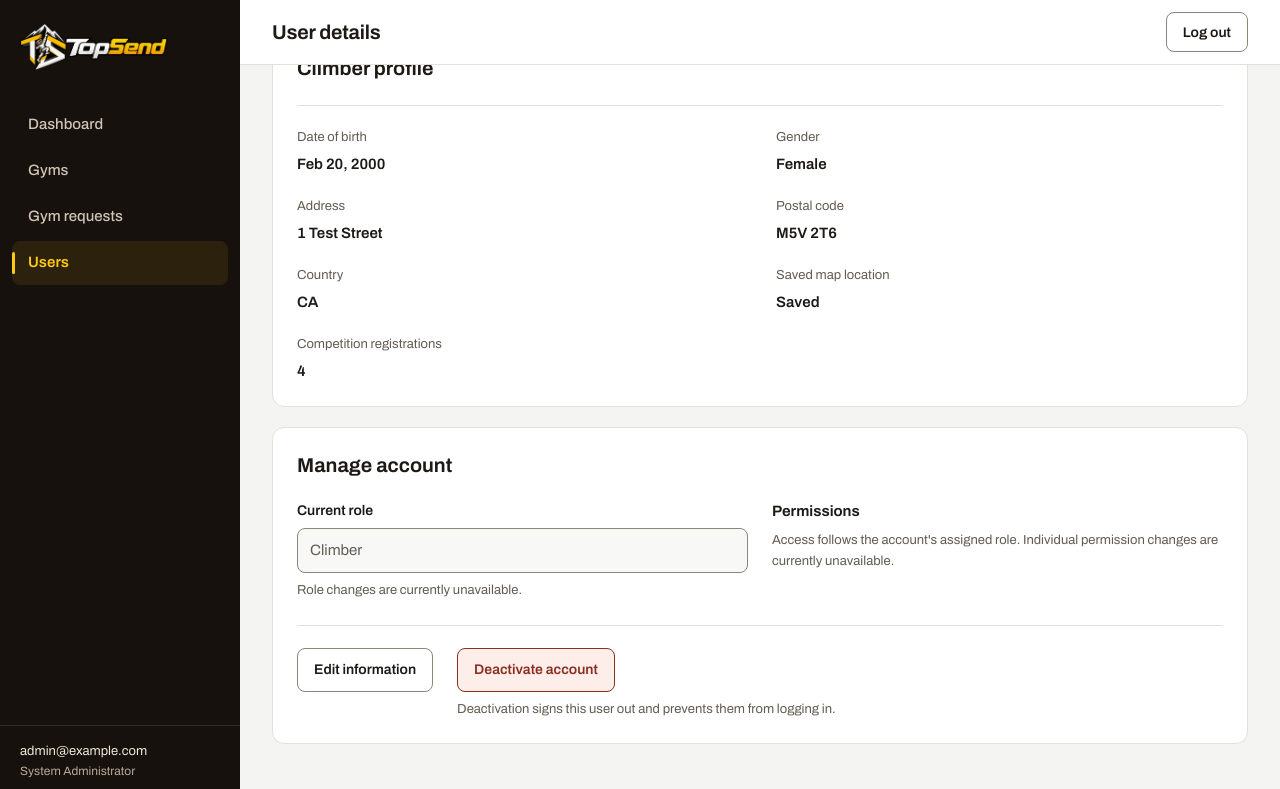
Test: US-009 selected profile editing and status controls › sends a profile field and explicit saved-pin removal without registration or role fields
(page scrolled)
Click the button "Edit information" at [365, 670], box [297,648,433,692]
(page scrolled)
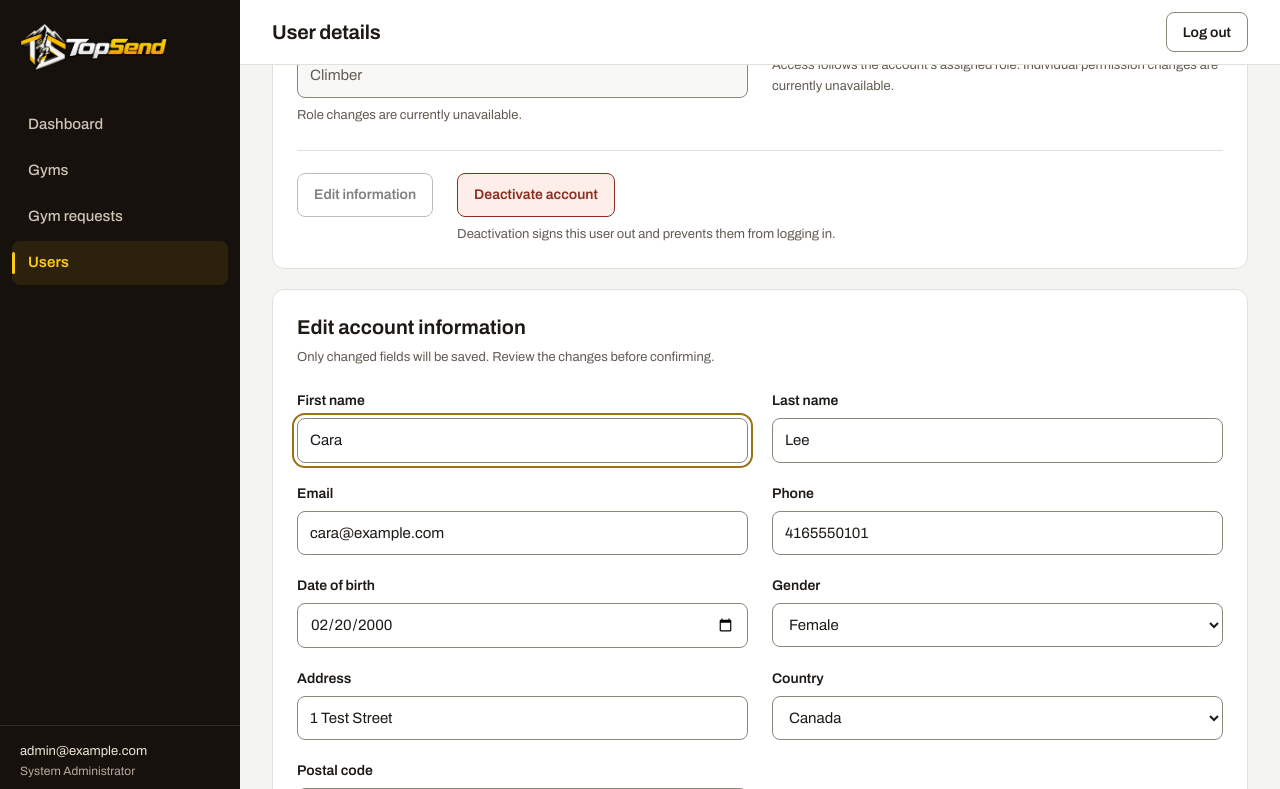
Replace the text in the field labelled "Address" with "2 Test Street" at [522, 718], box [297,696,748,740]
(page scrolled)
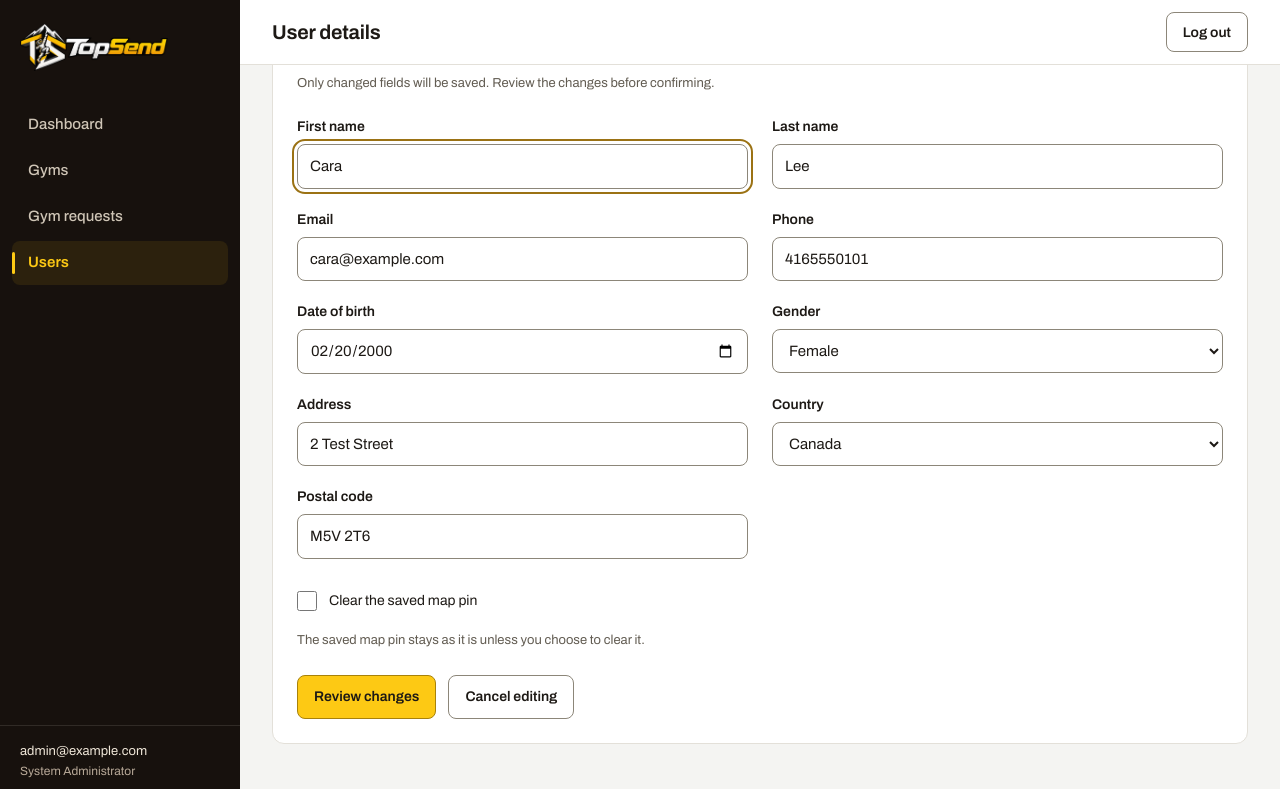
Click the checkbox labelled "Clear the saved map pin" at [307, 601], box [297,591,317,611]
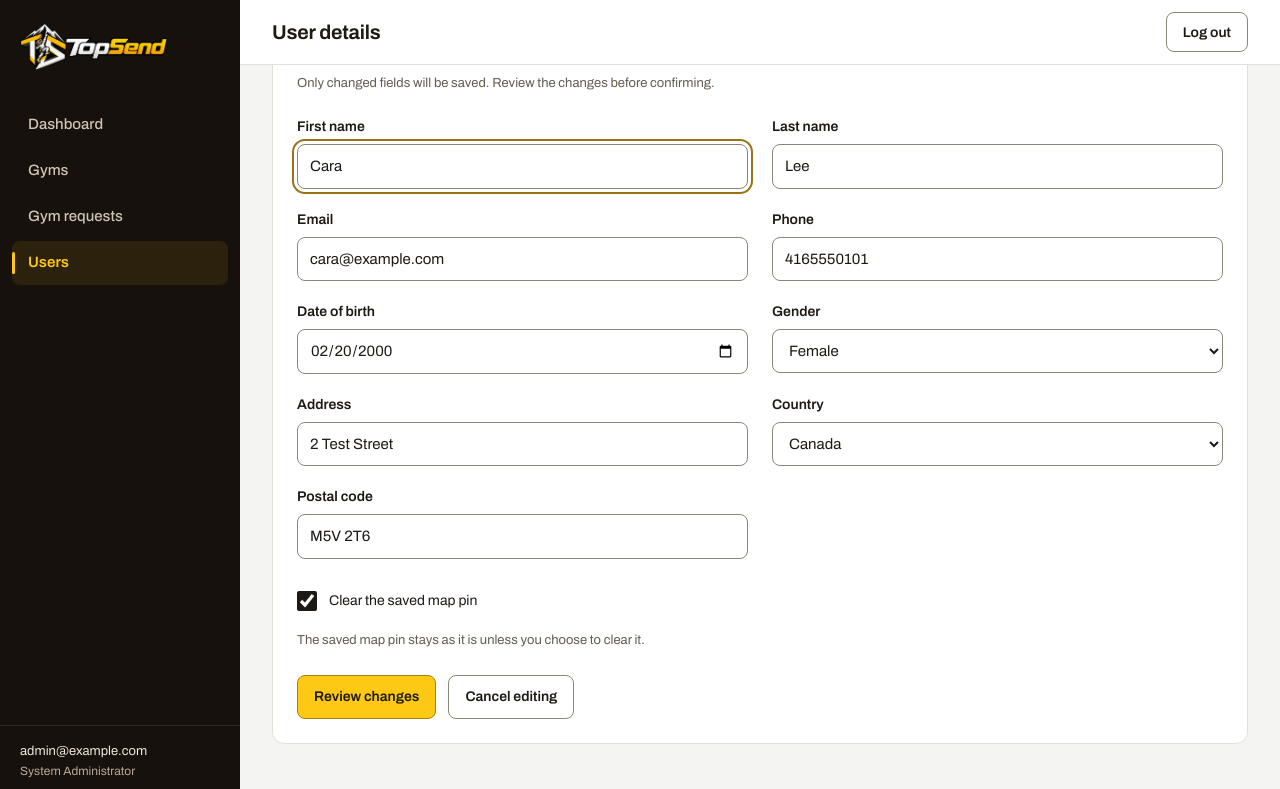
Click the button "Review changes" at [367, 697], box [297,675,436,719]
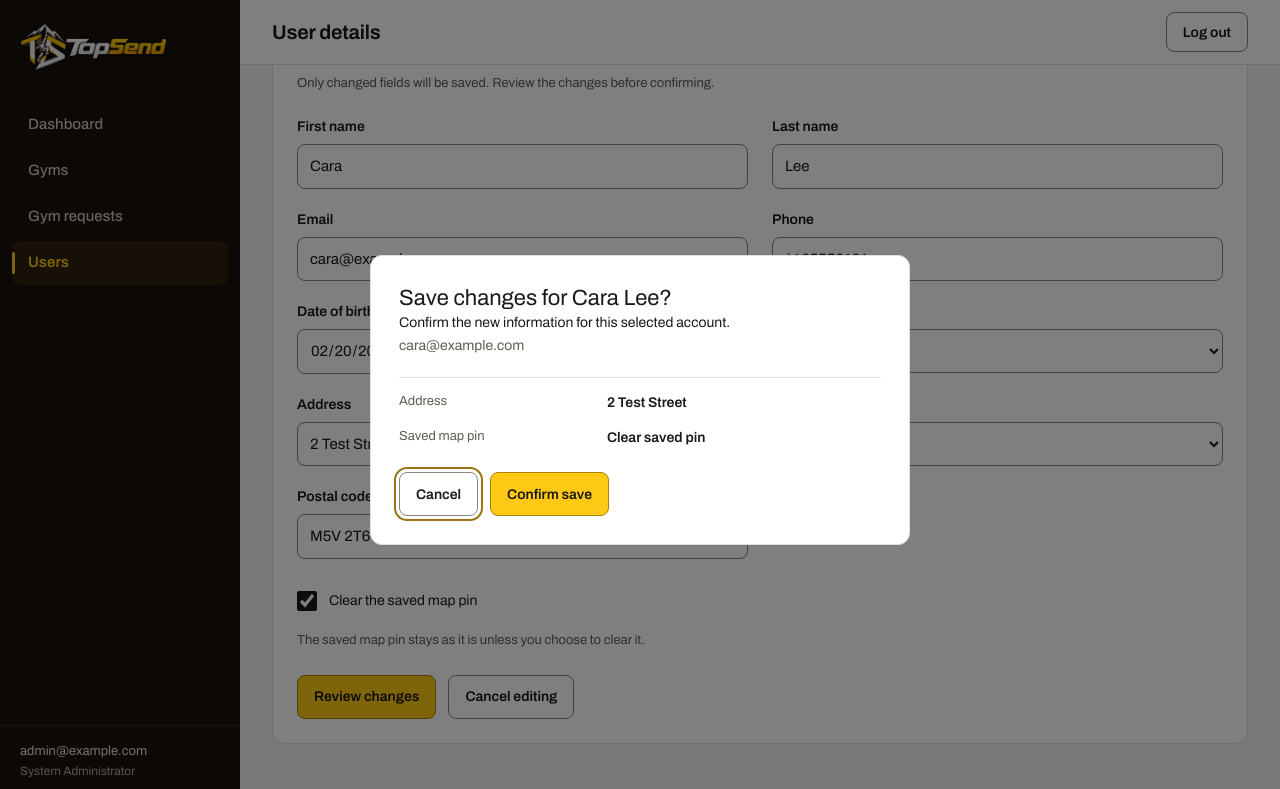
Now the text "Clear saved pin" is shown, box [607,430,705,445]
Click the button "Confirm save" at [550, 494], box [490,472,609,516]
(page scrolled)
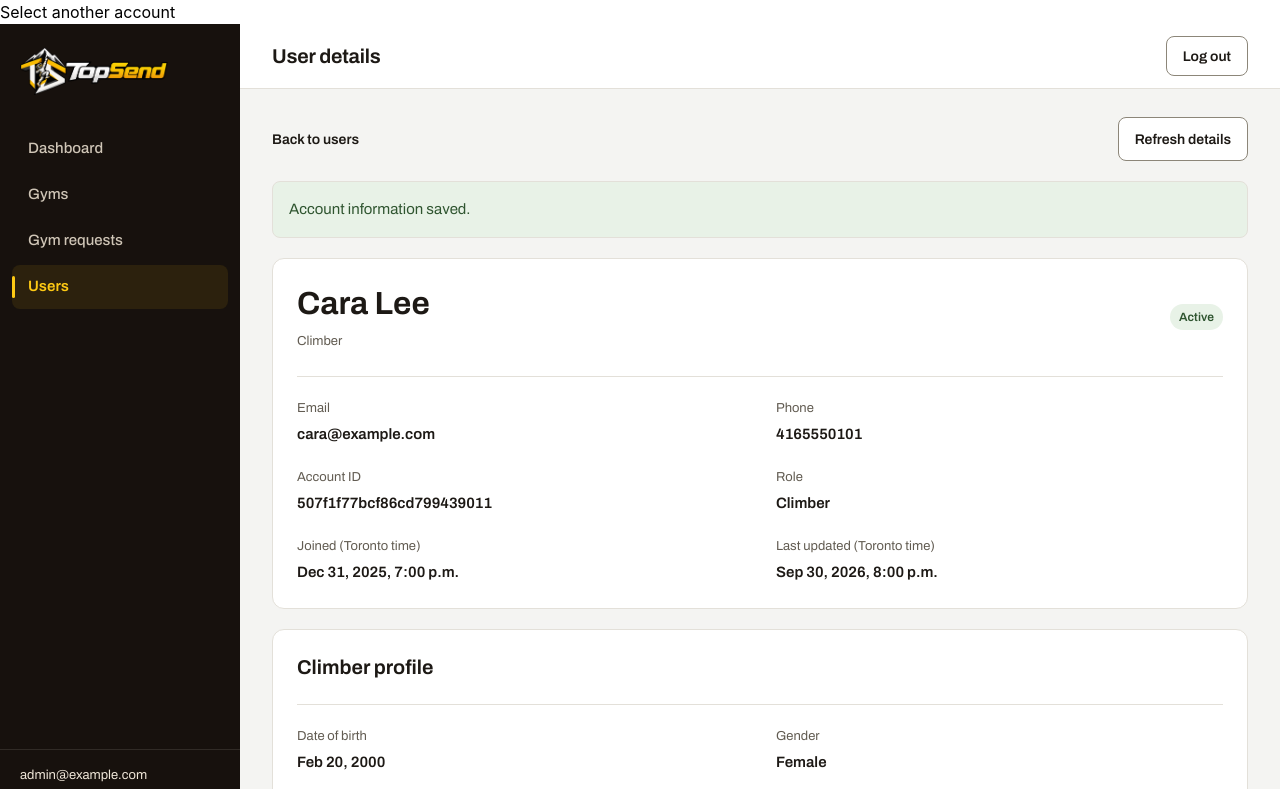
Now the text "Account information saved." is shown, box [272,181,1248,238]
